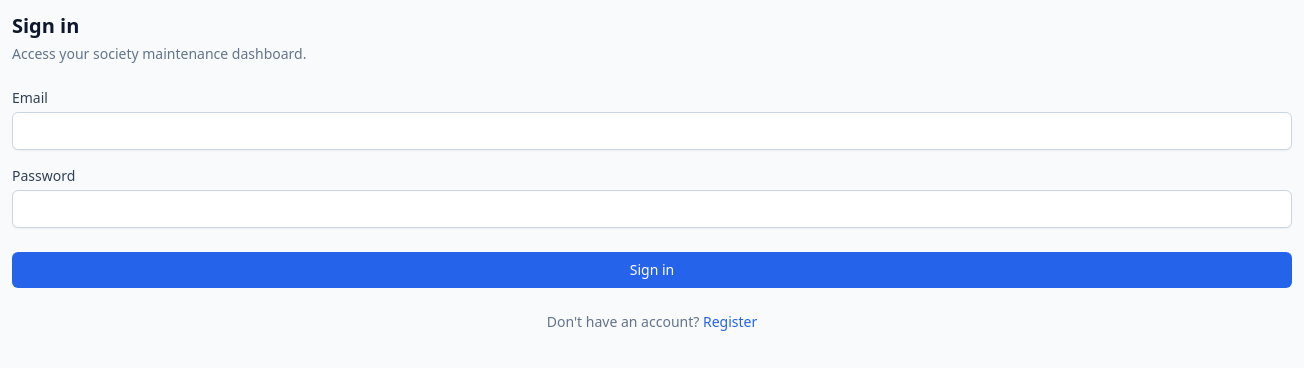
Scenario: Login validation › shows a validation error when the password is empty
Type "resident@example.com" into the field labelled "Email". click: (652, 131)
box: [12,112,1292,150]
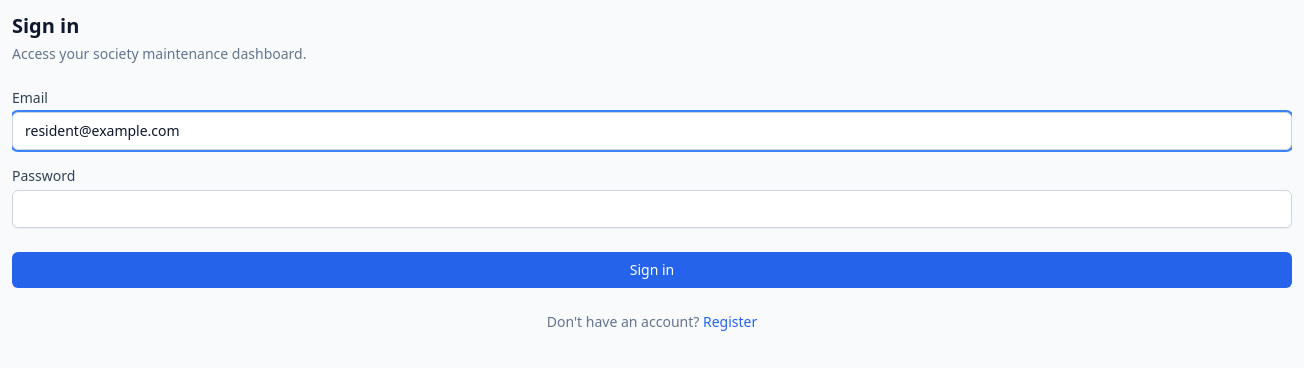
Click the button "Sign in". click: (652, 270)
box: [12,252,1292,288]
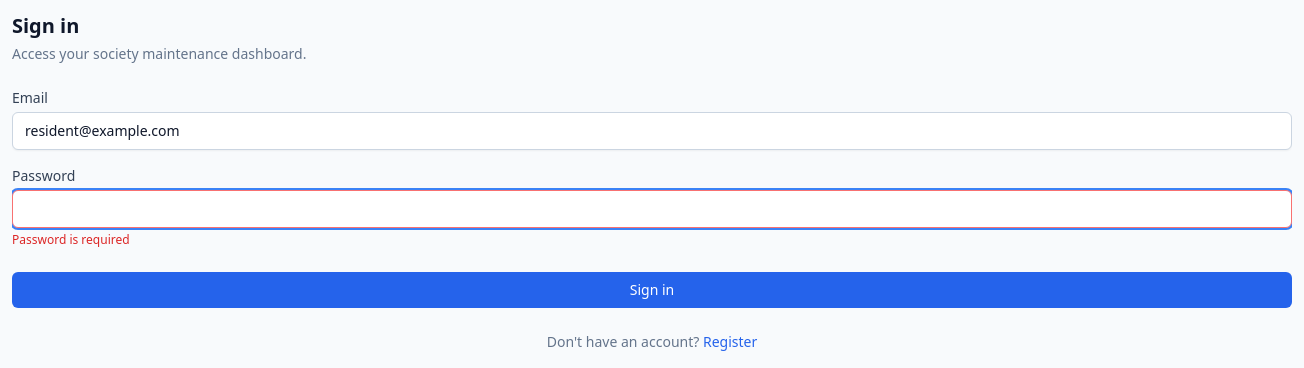
Result: the text "Password is required" is shown at [12,231,130,248]
